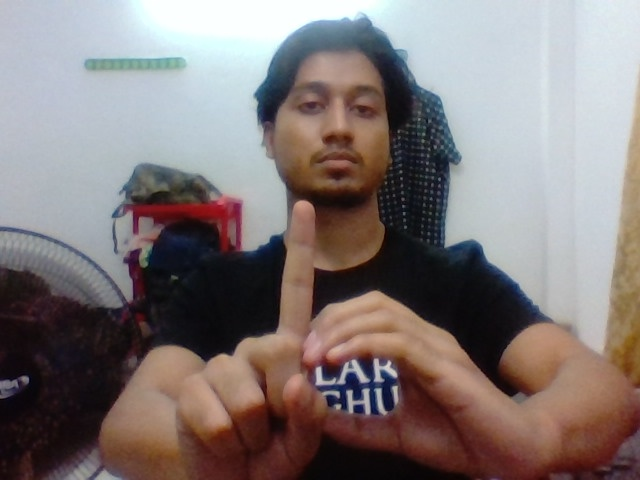D: (233, 191, 464, 460)
